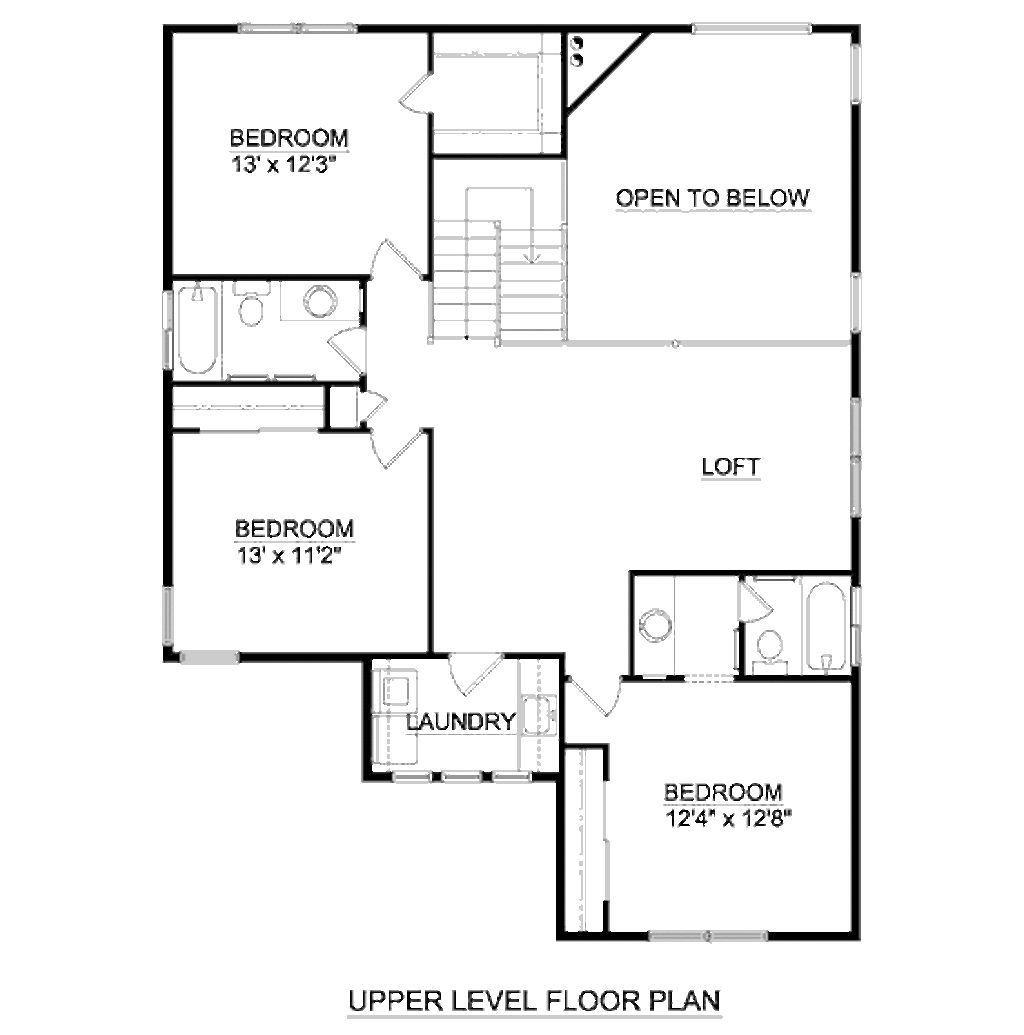door: (363, 422, 425, 471), (444, 649, 507, 697), (569, 668, 625, 722), (729, 578, 779, 629), (322, 327, 371, 378), (368, 235, 423, 278), (401, 71, 441, 119), (361, 389, 390, 425)
large_sink: (225, 276, 279, 333), (745, 627, 790, 679)
small_sink: (634, 582, 680, 665), (283, 279, 360, 318)
stairs: (429, 165, 568, 351)
tub: (175, 284, 222, 381), (804, 581, 849, 676)
window: (691, 17, 812, 40), (649, 924, 771, 944), (844, 38, 871, 109), (236, 21, 358, 36), (849, 397, 864, 517), (841, 265, 863, 333), (390, 763, 436, 786), (442, 765, 483, 789), (495, 768, 536, 786)
